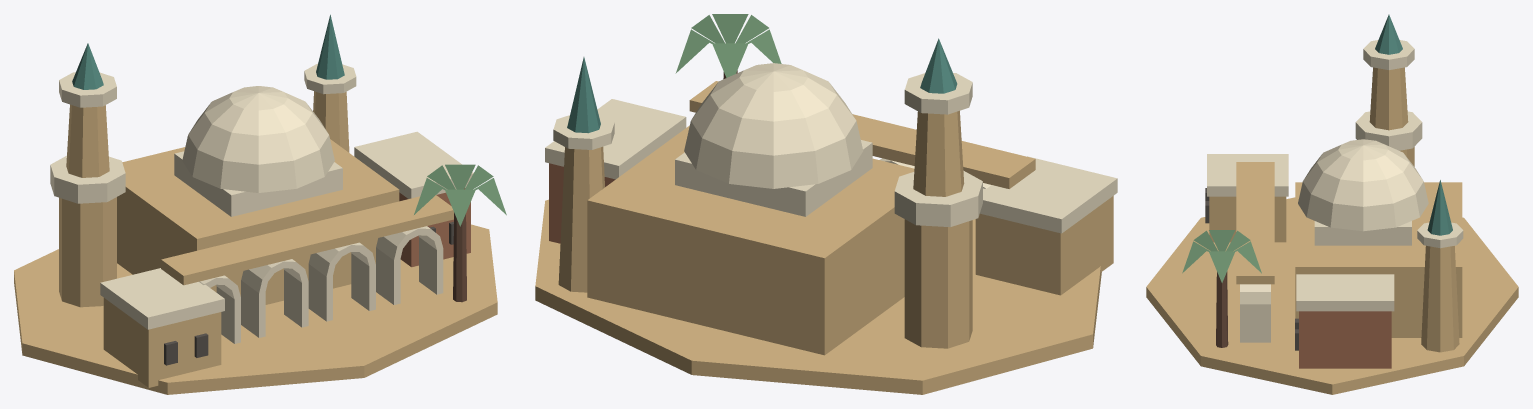
Rendered from cairo.glb.
The picture shows the model from 3 angles, left to right: view 1: azimuth 30°, elevation 25°; view 2: azimuth 150°, elevation 25°; view 3: azimuth 270°, elevation 25°; orthographic projection. The views are drawn at different scales.
Parts seen in each view (by area): view 1: cairo_sandstone, cairo_cream, cairo_foliage, cairo_teal, cairo_brick, cairo_dark_wood, cairo_deep_shadow; view 2: cairo_sandstone, cairo_cream, cairo_foliage, cairo_teal, cairo_brick; view 3: cairo_sandstone, cairo_cream, cairo_brick, cairo_foliage, cairo_teal, cairo_dark_wood.
Part boxes in pixels (left/top/right/bottom): cairo_sandstone: left=14, top=91, right=497, bottom=394; cairo_cream: left=50, top=63, right=473, bottom=343; cairo_foliage: left=414, top=164, right=506, bottom=226; cairo_teal: left=72, top=14, right=344, bottom=89; cairo_brick: left=399, top=188, right=470, bottom=267; cairo_dark_wood: left=453, top=212, right=466, bottom=302; cairo_deep_shadow: left=164, top=221, right=453, bottom=365; cairo_sandstone: left=535, top=81, right=1113, bottom=394; cairo_cream: left=545, top=63, right=1117, bottom=233; cairo_foliage: left=675, top=14, right=781, bottom=77; cairo_teal: left=567, top=38, right=957, bottom=133; cairo_brick: left=549, top=163, right=615, bottom=243; cairo_sandstone: left=1146, top=67, right=1518, bottom=394; cairo_cream: left=1207, top=40, right=1463, bottom=342; cairo_brick: left=1299, top=311, right=1391, bottom=368; cairo_foliage: left=1182, top=230, right=1261, bottom=282; cairo_teal: left=1375, top=14, right=1452, bottom=235; cairo_dark_wood: left=1216, top=271, right=1228, bottom=347.
Bounding box in the file's own units: 2.1 × 1.14 × 1.69.
